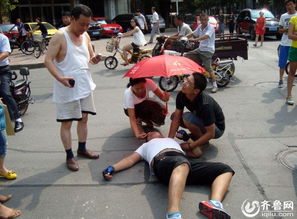10+: (1, 1, 293, 184)
down: (100, 127, 235, 219)
